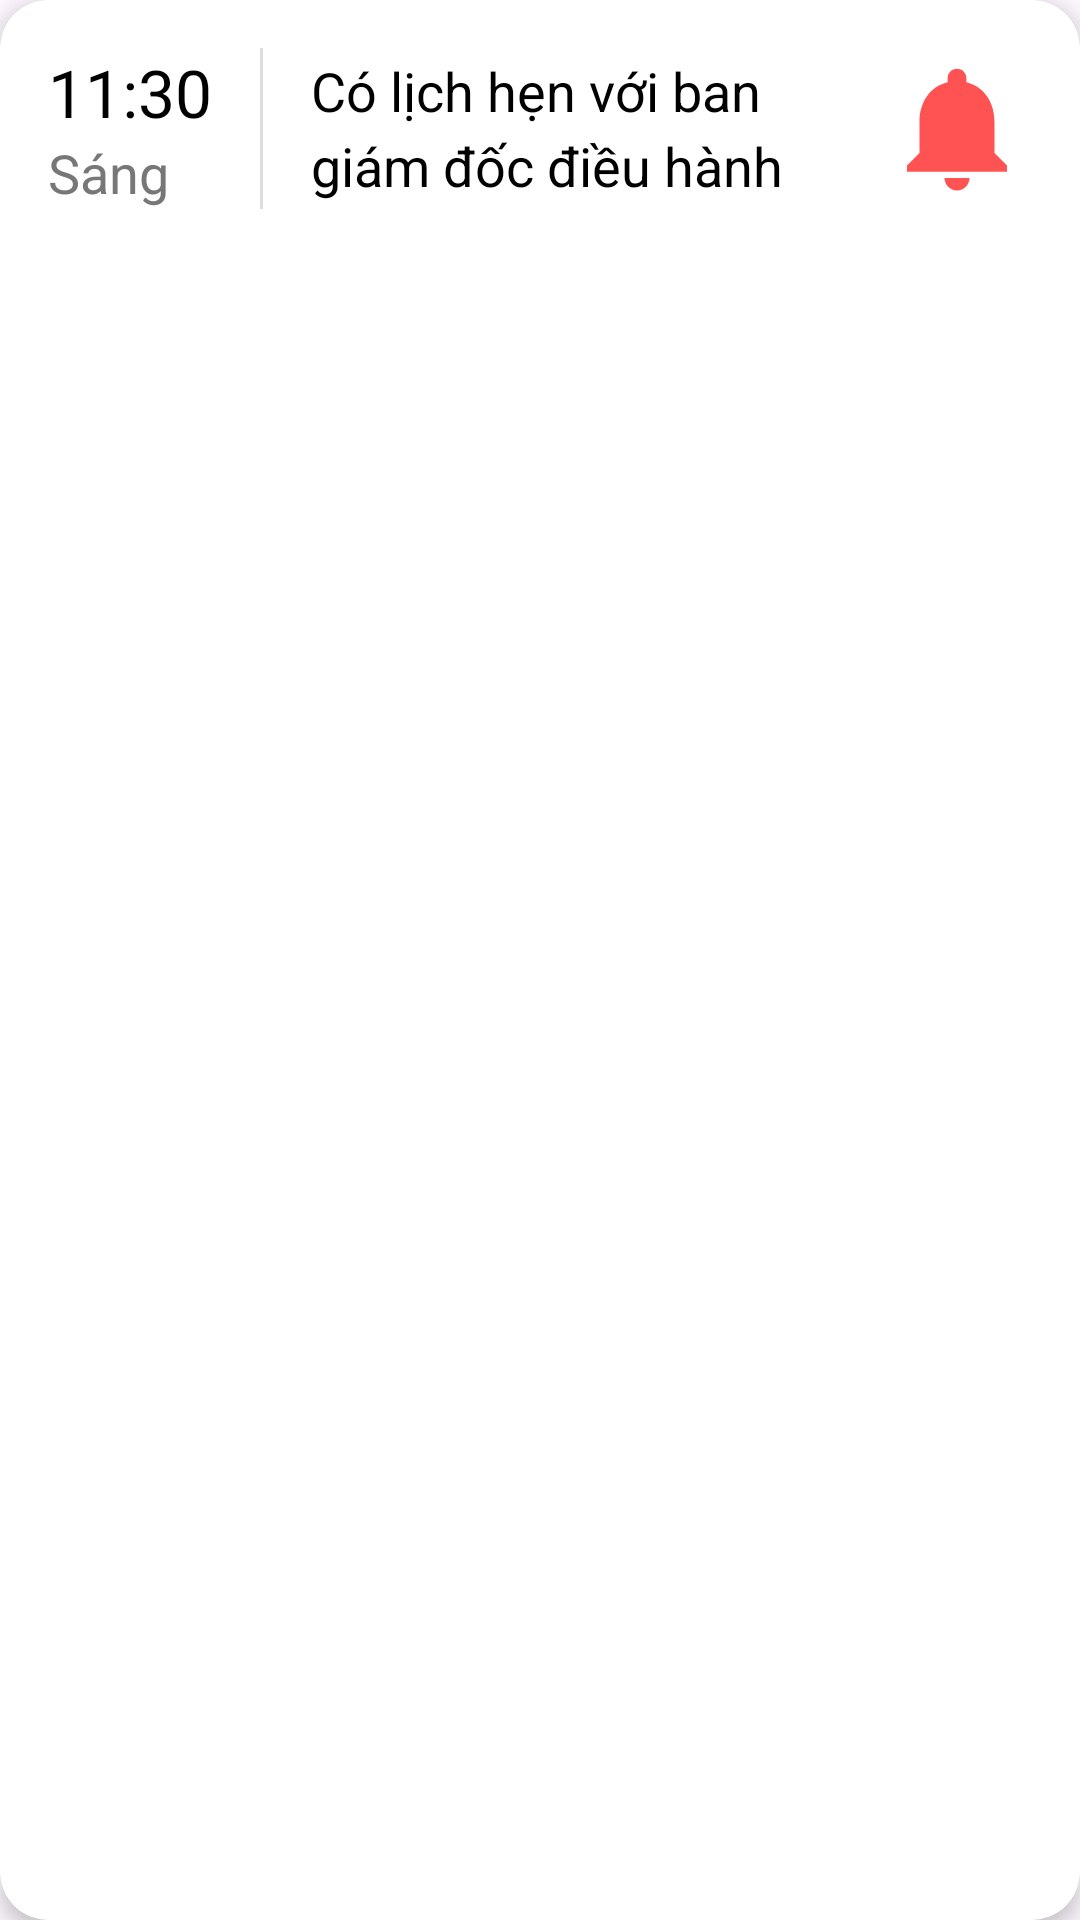

Icon click points for this 1080px x 1920px phone screenshot, format [x,y]:
noti: [957,129]
